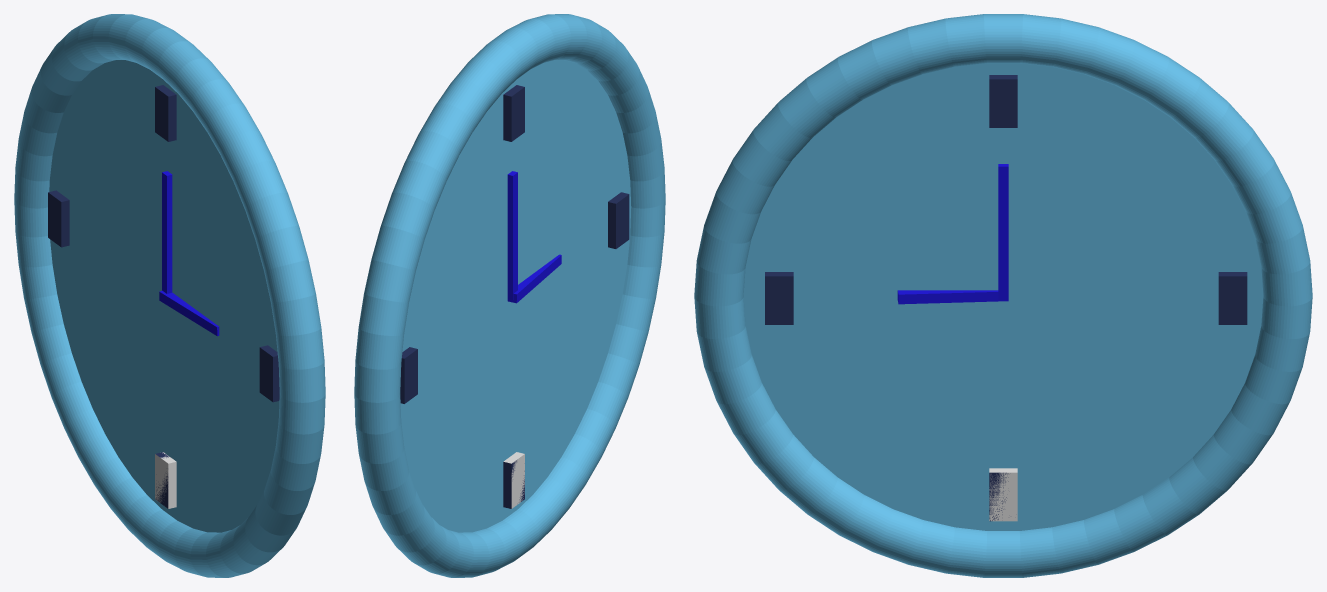
Rendered from freezetime.fbx.
3 renders of one model, left to right at view 1: azimuth 30°, elevation 25°; view 2: azimuth 150°, elevation 25°; view 3: azimuth 270°, elevation 25°, orthographic. The views are drawn at different scales.
Parts seen in each view (by area): view 1: Circle, Cube.004, Cube, Cube.002; view 2: Circle, Cube.004, Cube, Cube.002; view 3: Circle, Cube.004, Cube, Cube.002.
Part boxes in pixels (box(x1,y1,x2,y2)): Circle: box(14, 14, 325, 577); Cube.004: box(48, 85, 279, 508); Cube: box(159, 171, 219, 336); Cube.002: box(155, 452, 176, 508); Circle: box(354, 14, 665, 577); Cube.004: box(400, 85, 629, 508); Cube: box(507, 171, 561, 303); Cube.002: box(503, 452, 524, 508); Circle: box(694, 14, 1312, 577); Cube.004: box(765, 75, 1247, 521); Cube: box(897, 164, 1008, 304); Cube.002: box(989, 468, 1017, 521).
Bounding box in the file's own units: 30 × 375 × 376.
